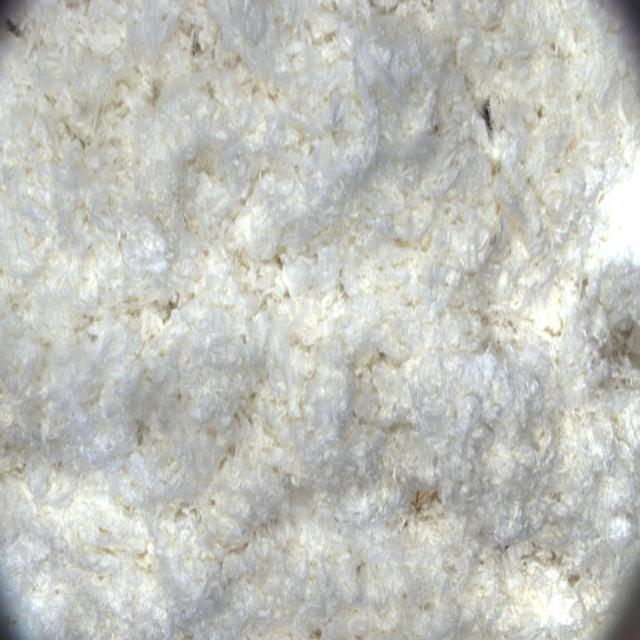dust: (463, 86, 511, 149)
